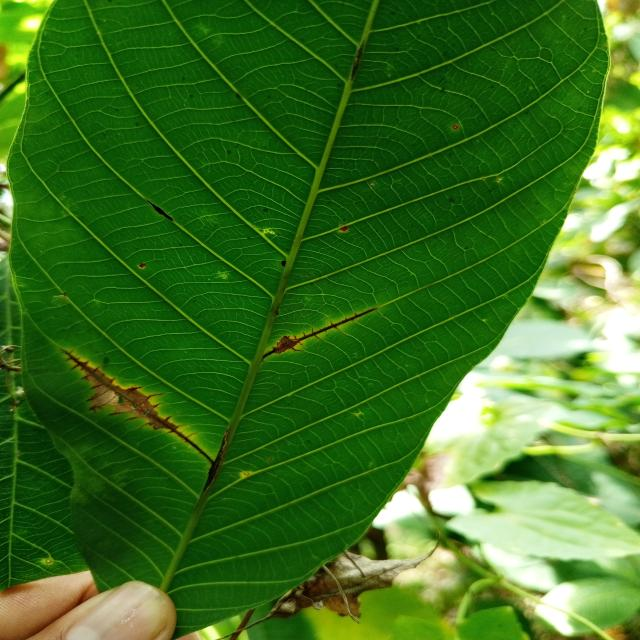Colletotrichum: (143, 197, 175, 222), (268, 458, 273, 461)
Corynespora: (60, 350, 214, 464), (262, 307, 378, 359), (200, 427, 228, 498)
